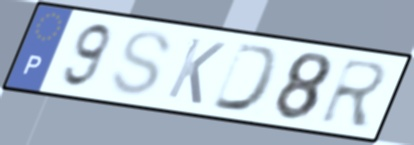8: (270, 49, 337, 123)
9: (59, 20, 116, 91)
D: (207, 39, 284, 115)
K: (163, 34, 229, 107)
R: (316, 56, 394, 130)
S: (108, 28, 175, 99)
